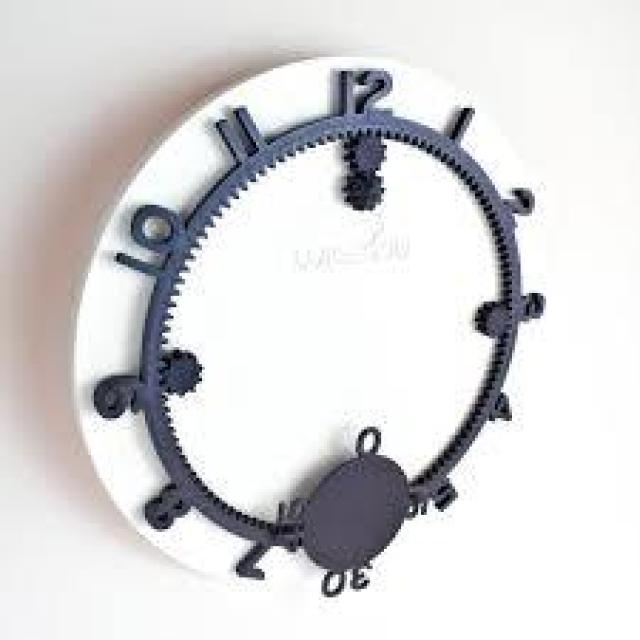Without deffect: (108, 85, 580, 606)
